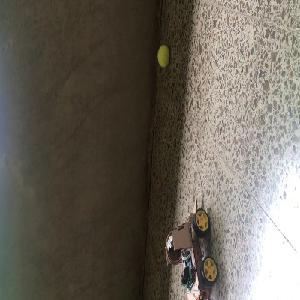Ball: (157, 45, 169, 68)
Robot: (164, 196, 218, 299)
